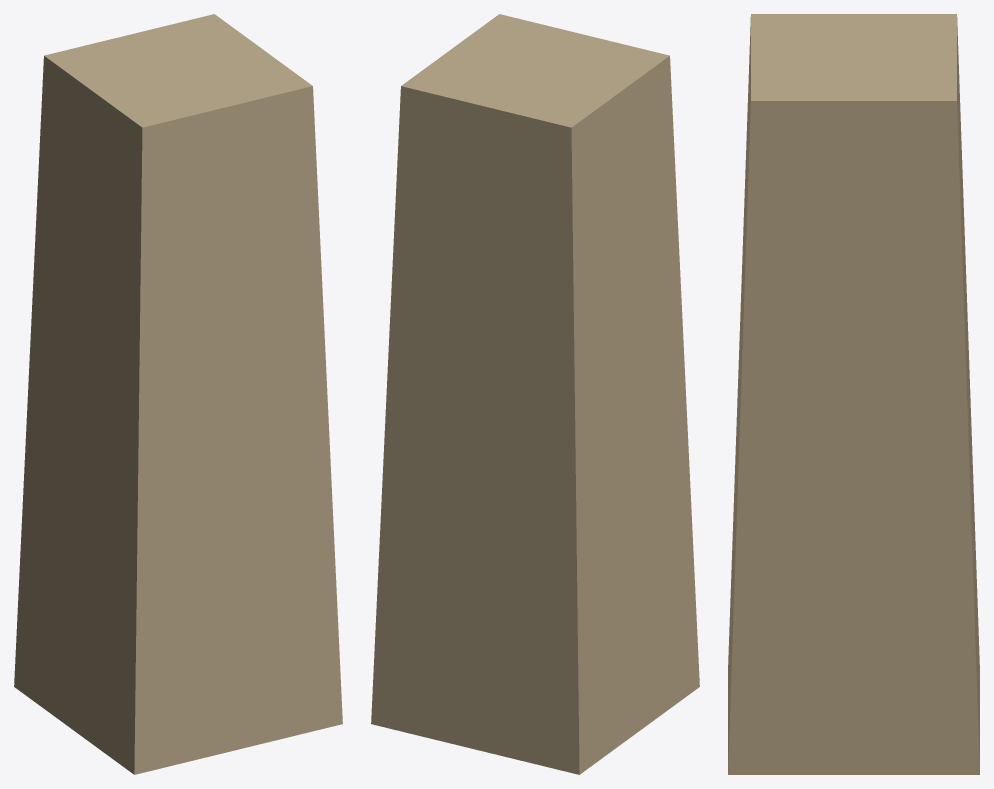
File: smith_upper_arm.glb
3 views of the same model, side by side, from view 1: azimuth 30°, elevation 25°; view 2: azimuth 150°, elevation 25°; view 3: azimuth 270°, elevation 25° (orthographic). The views are drawn at different scales.
Visible parts, largest first — view 1: smith_upper_arm; view 2: smith_upper_arm; view 3: smith_upper_arm.
Boxes of the visible parts, left/top/right/bottom form: smith_upper_arm: left=14, top=14, right=342, bottom=774; smith_upper_arm: left=371, top=14, right=699, bottom=774; smith_upper_arm: left=728, top=14, right=979, bottom=774.
Bounding box in the file's own units: 0.11 × 0.32 × 0.11.
